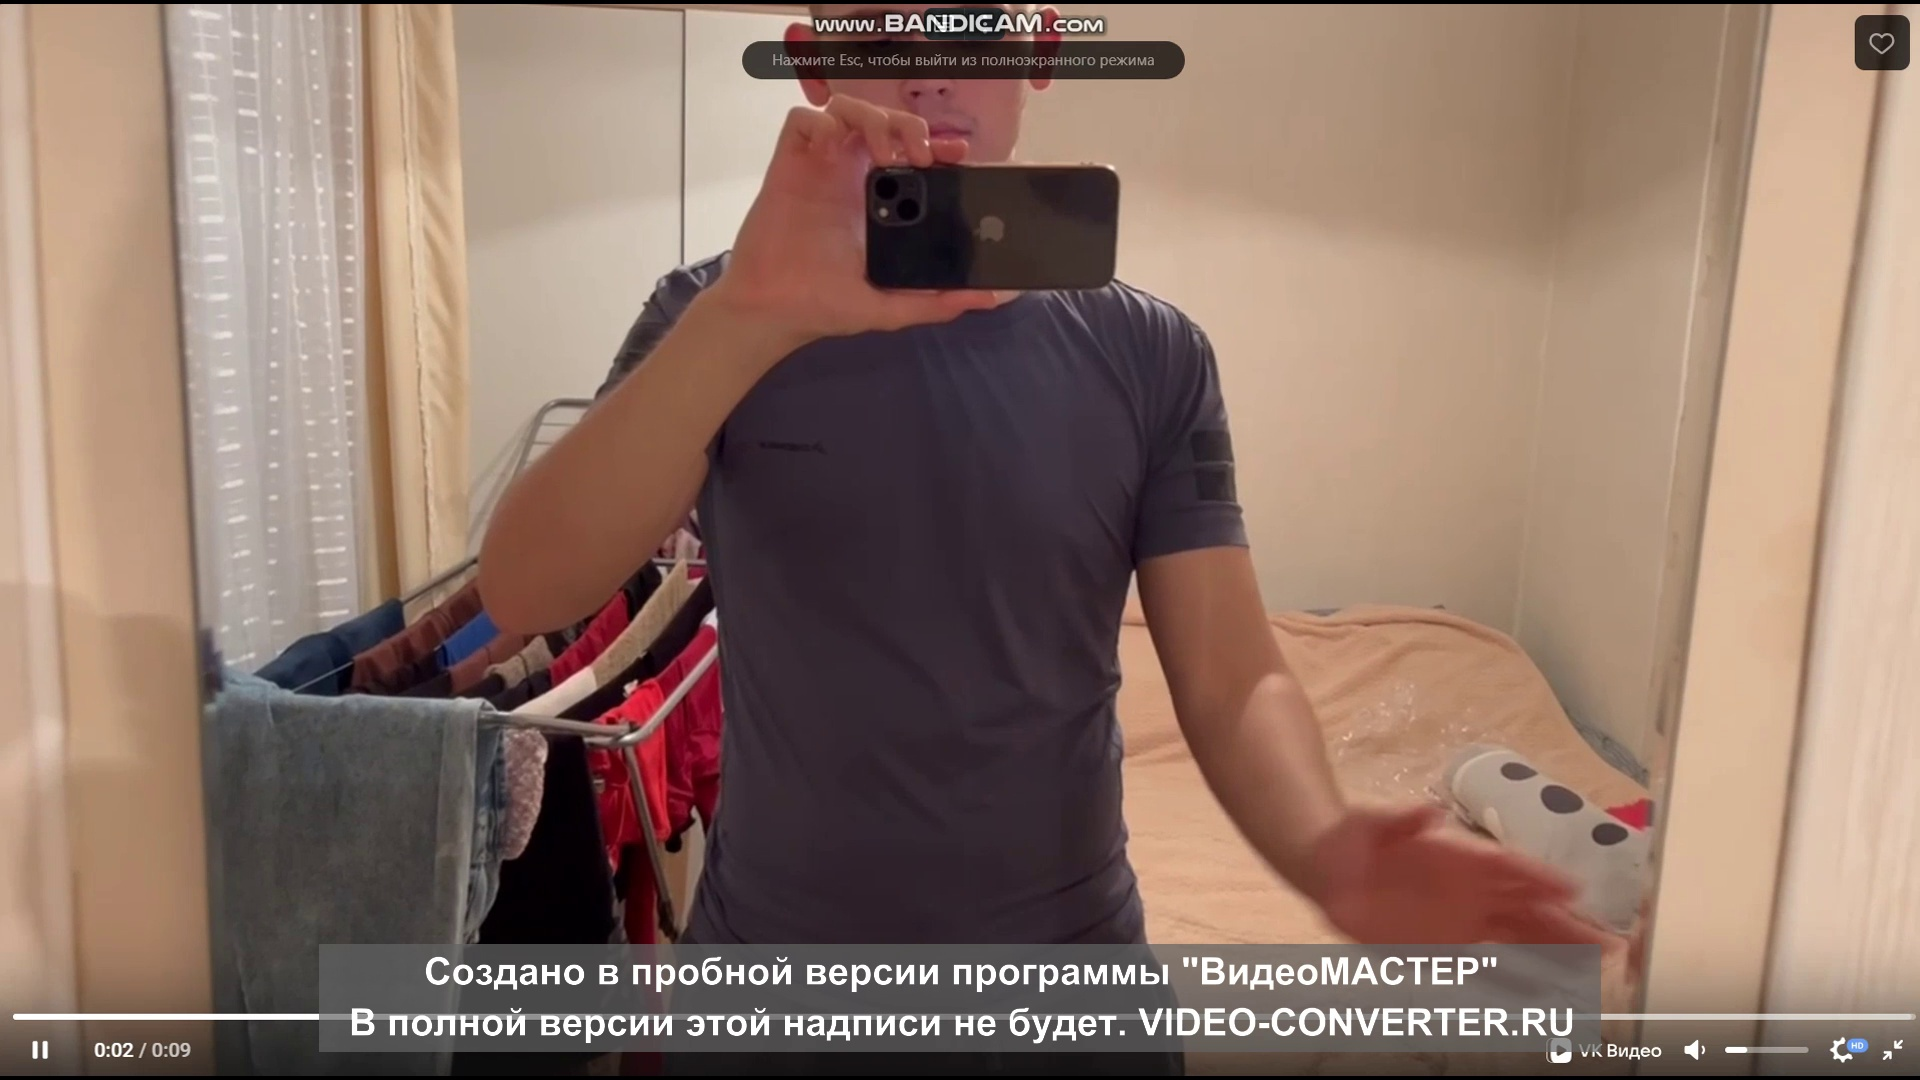Ладонь: (1313, 798, 1619, 942)
